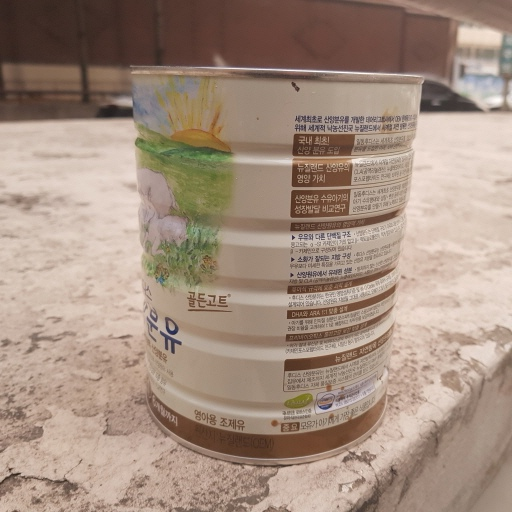Metal_1: (126, 57, 425, 464)
